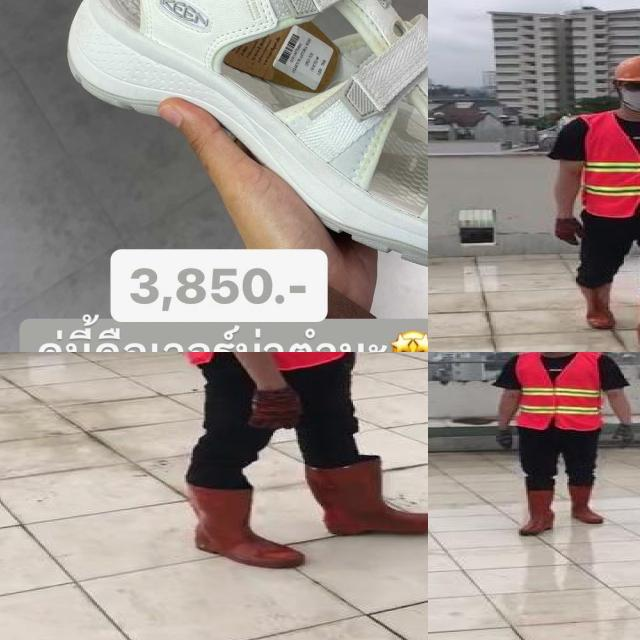Sandals: (49, 0, 428, 283)
boots: (179, 484, 301, 568), (299, 460, 428, 534), (573, 280, 615, 328), (521, 490, 555, 536), (570, 486, 604, 524)
face_mask: (620, 80, 640, 111)
glasses: (616, 78, 640, 94)
hand_glove: (248, 390, 303, 428), (553, 217, 587, 244), (611, 423, 633, 446), (496, 427, 516, 450), (349, 352, 360, 366)
head_helmet: (610, 54, 640, 83)
person: (164, 352, 428, 568), (547, 52, 640, 352), (493, 352, 640, 535)
vest: (514, 352, 601, 429), (579, 112, 640, 217)
